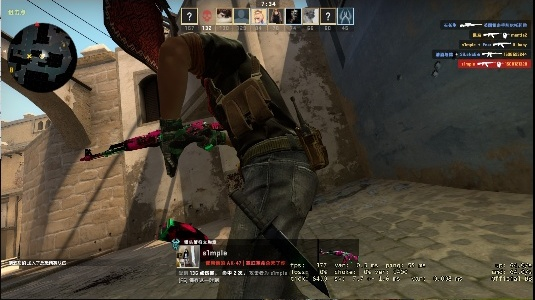body: (154, 32, 326, 300)
